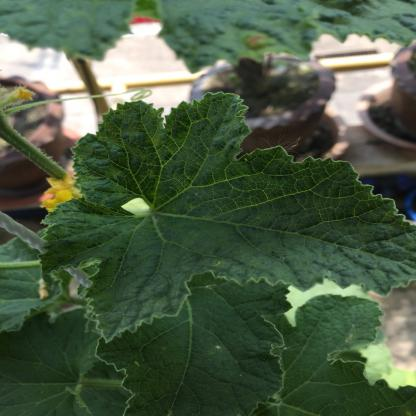Normal: (43, 87, 416, 338)
